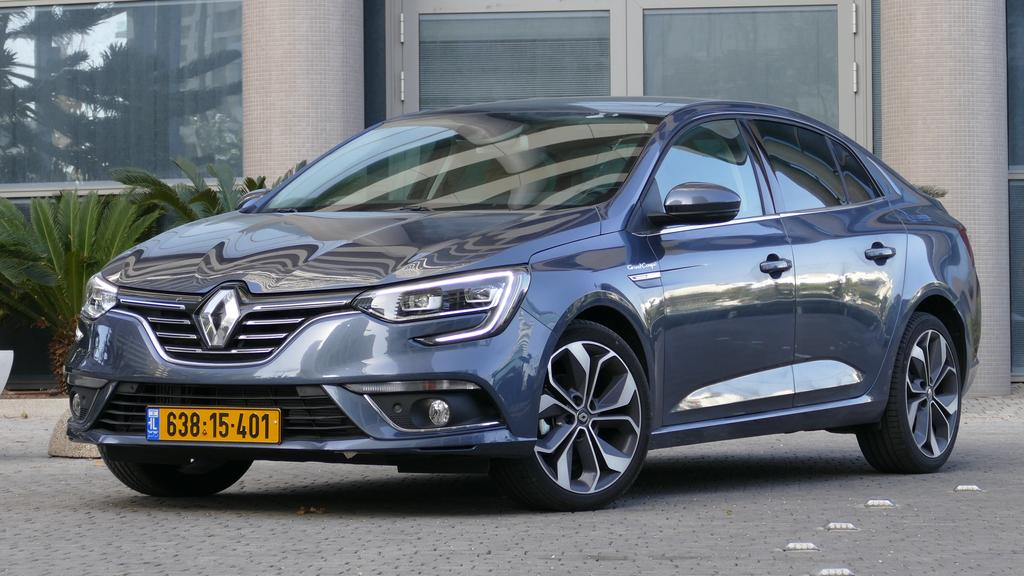licence: (147, 406, 282, 447)
